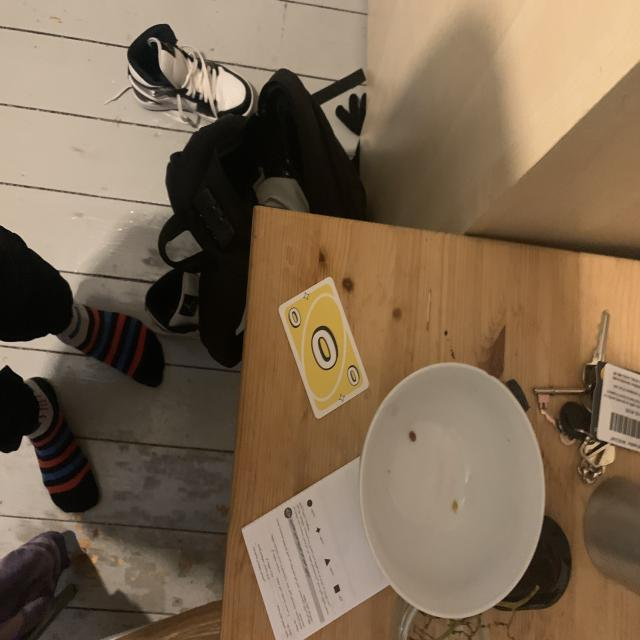lyellow-0: (285, 302, 305, 332)
